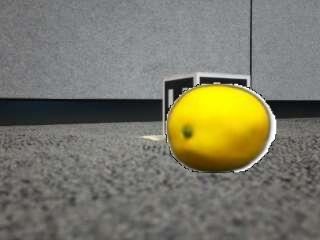lemon: (167, 86, 271, 172)
